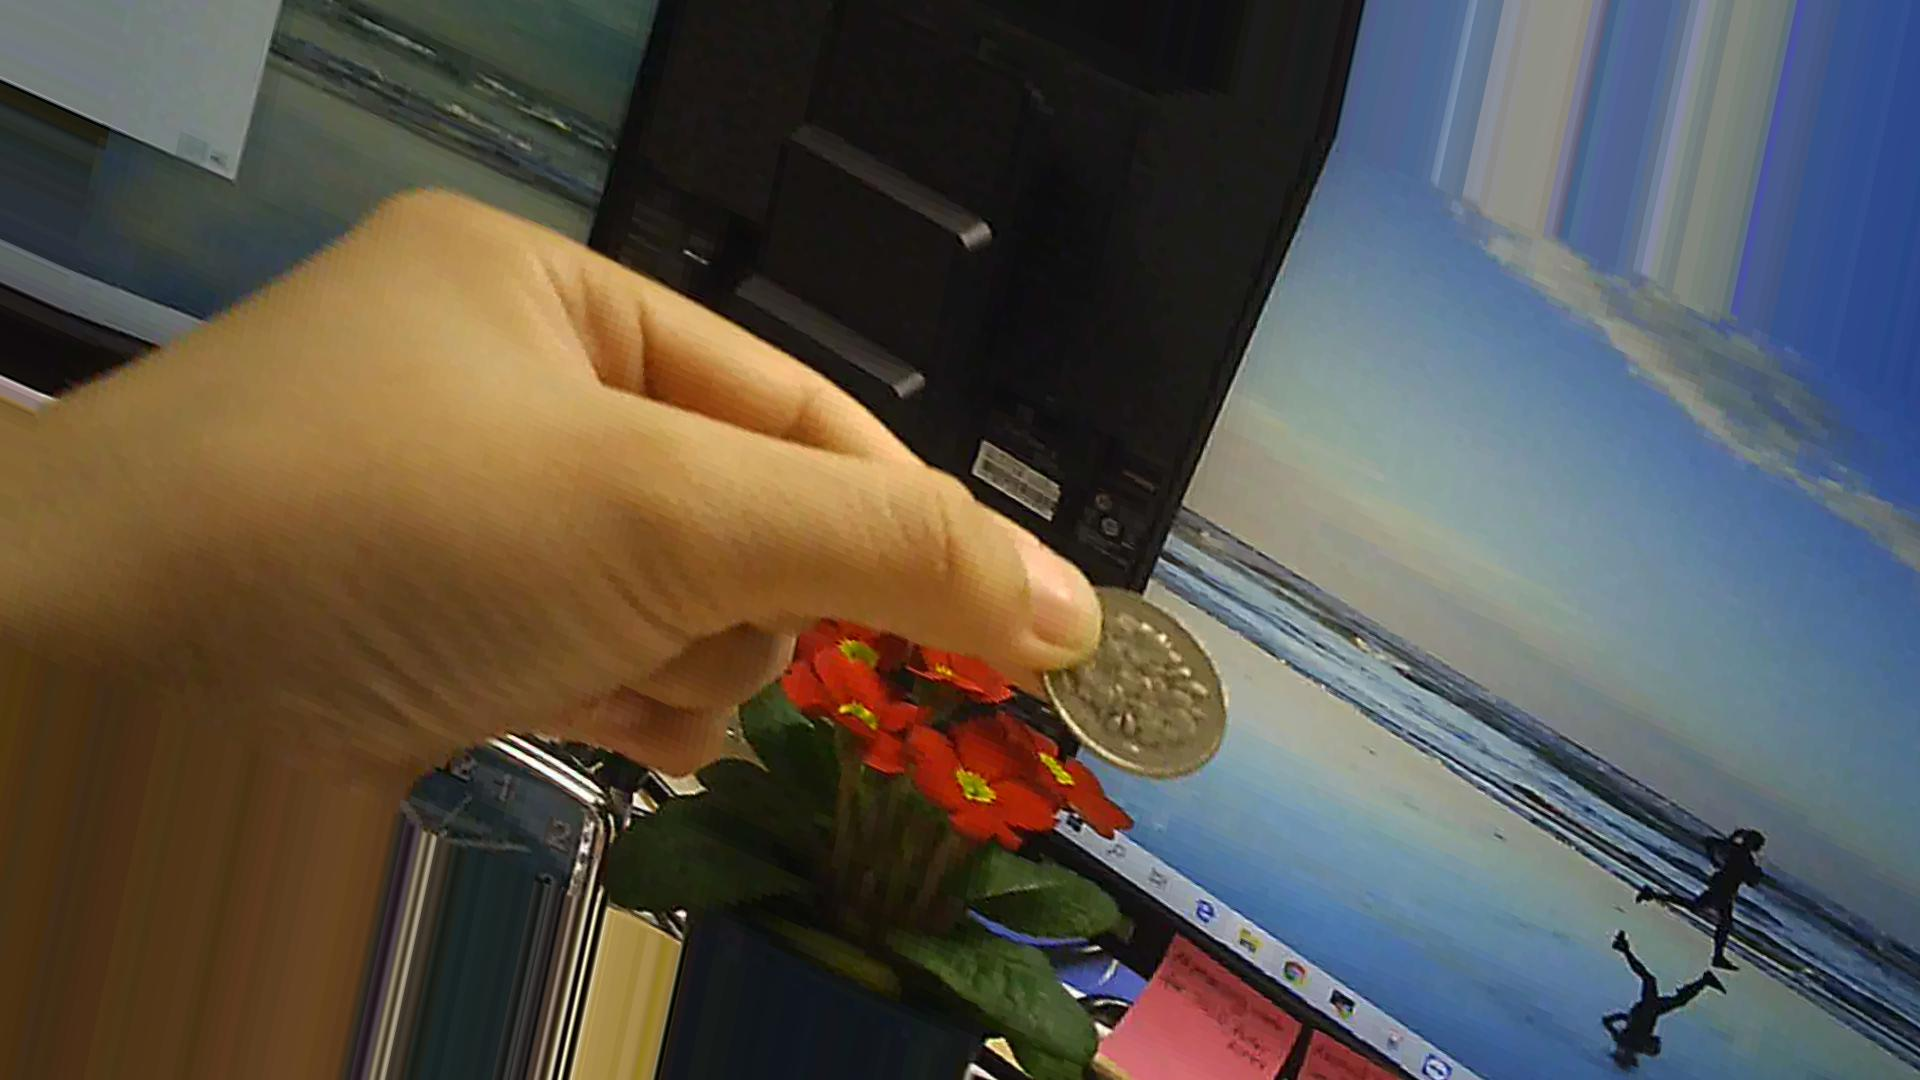100 Yen: (1040, 580, 1233, 781)
